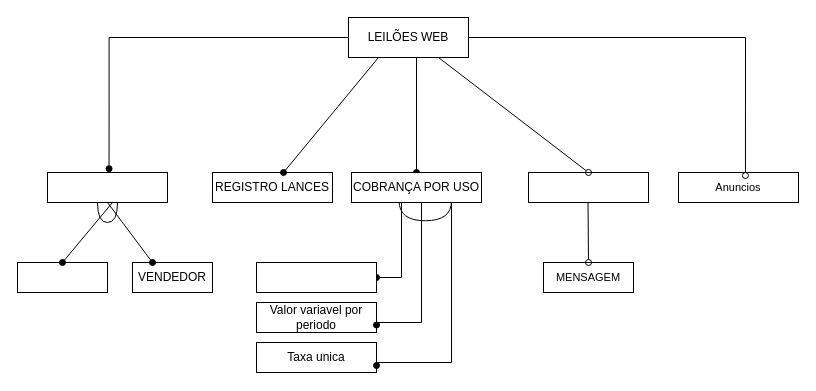
Image size: 816x391. Some labels were removed from this diagram. Each missing label, with the box of its shape:
CADASTRO: (46, 172, 168, 202)
COMPRADOR: (16, 262, 108, 292)
SISTEMA MENSAGEM: (528, 172, 648, 202)
Valor fixo por periodo: (256, 262, 376, 292)
